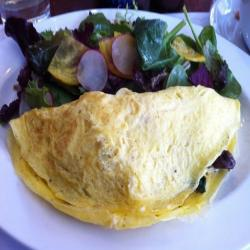omelette: (5, 84, 245, 234)
salad: (14, 14, 233, 107)
